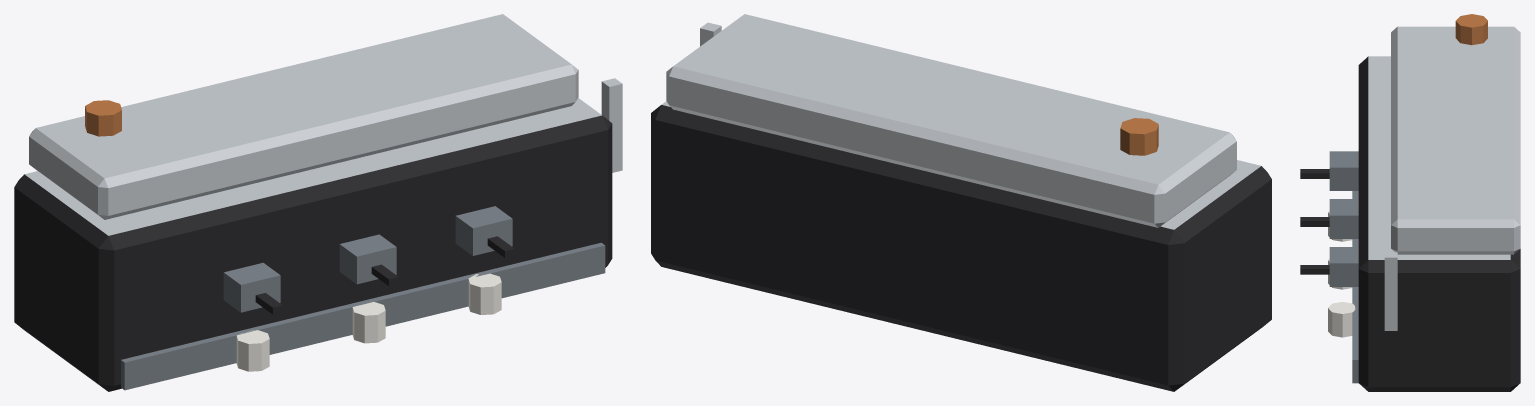
File: espresso_3.fbx
3 views of the same model, side by side, from view 1: azimuth 30°, elevation 25°; view 2: azimuth 150°, elevation 25°; view 3: azimuth 270°, elevation 25° (orthographic). The views are drawn at different scales.
Parts seen in each view (by area): view 1: espresso_3; view 2: espresso_3; view 3: espresso_3.
Part boxes in pixels (<box>): espresso_3: <box>14,14,622,391</box>; espresso_3: <box>651,14,1271,391</box>; espresso_3: <box>1300,14,1520,391</box>.
Bounding box in the file's own units: 1.61 × 0.65 × 0.68.
